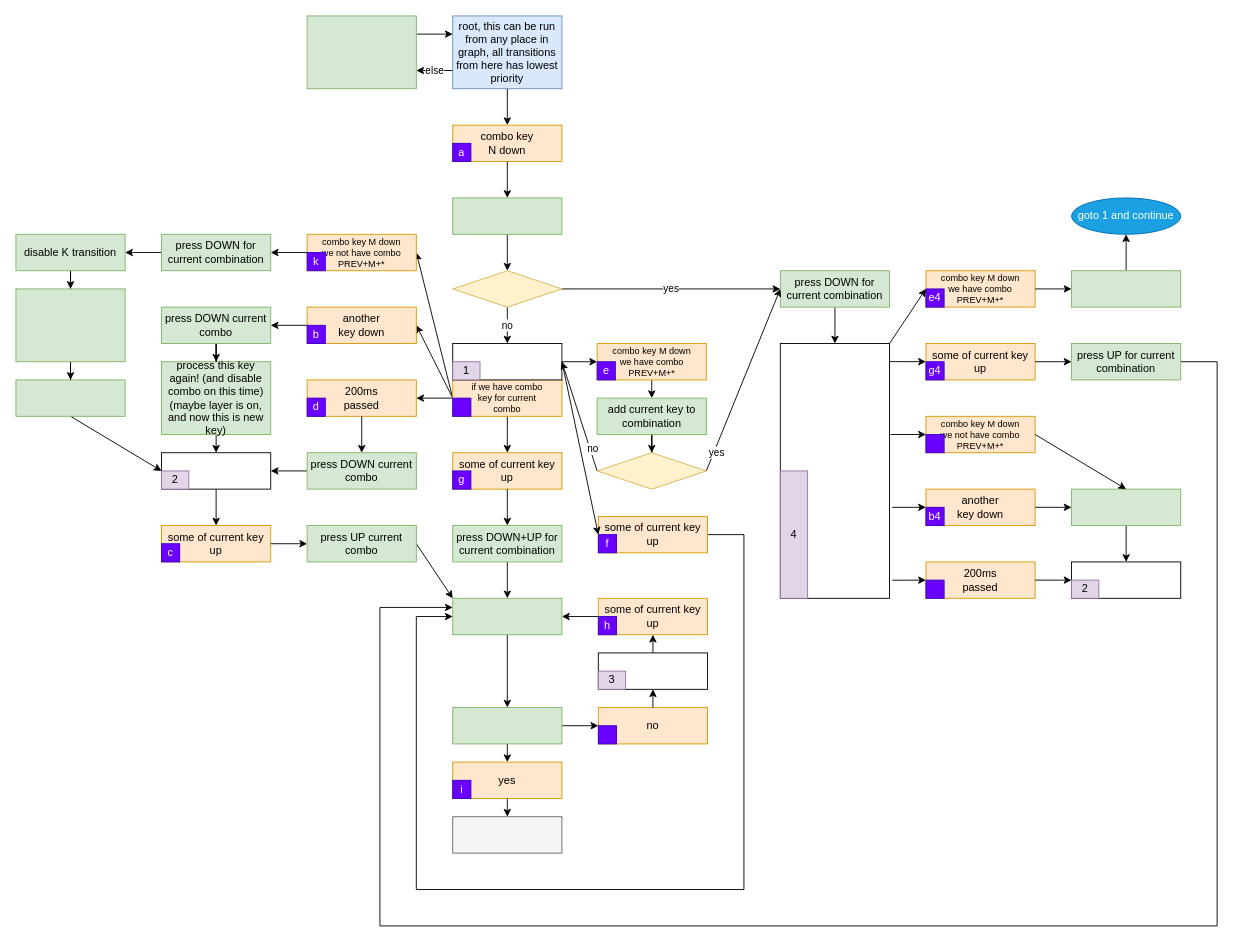
Image size: 1240x949. Some labels were removed from this diagram. Here are the shapes that lost their labels. From the top down, the centre of each, then its label:
(x=361, y=52): process as usual
(x=507, y=215): current combination is this single key, add it to top of the stack
(x=507, y=288): immediate?
(x=1126, y=288): press UNDO UP for current immediate
(x=70, y=325): process this combo key again! (maybe layer is on, and now this is new key)
(x=70, y=397): enable K transition
(x=934, y=443): k4
(x=651, y=470): we have immediate combo for PREV+M?
(x=1126, y=507): say that we didn't process this key
(x=934, y=588): d4
(x=507, y=616): remove current UP key from array
(x=507, y=725): no one keys in current array?
(x=507, y=834): remove current array from stack, end.
